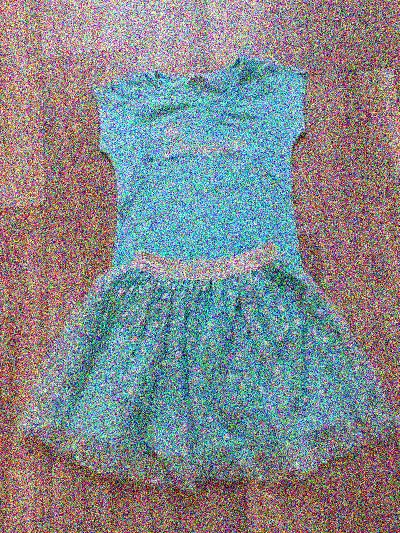Dress: (24, 66, 390, 497)
